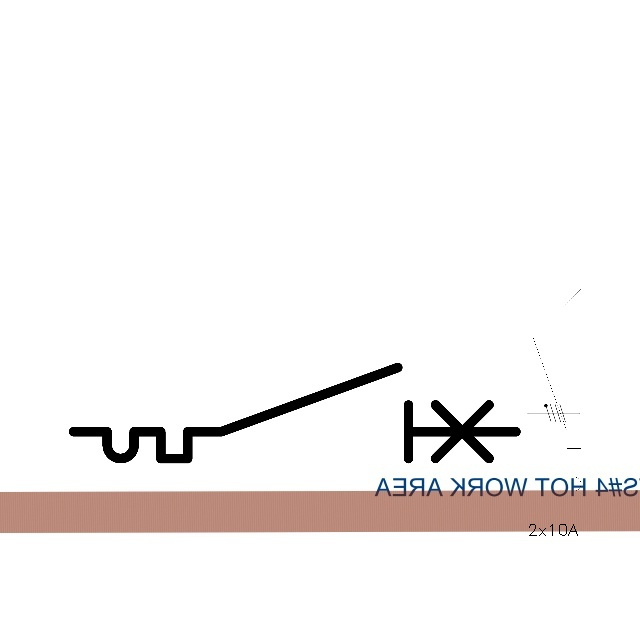interruptor_termomagnetico: (62, 356, 528, 470), (527, 269, 587, 515)
